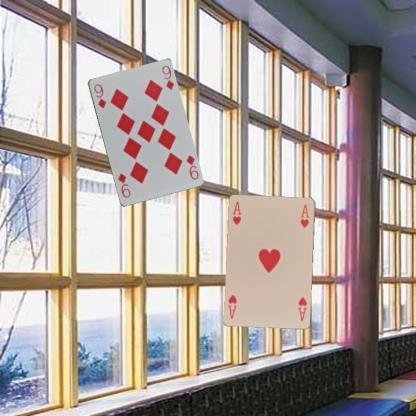9d: (184, 152, 200, 181), (92, 81, 108, 109)
Ah: (295, 294, 308, 322), (229, 199, 242, 226)
